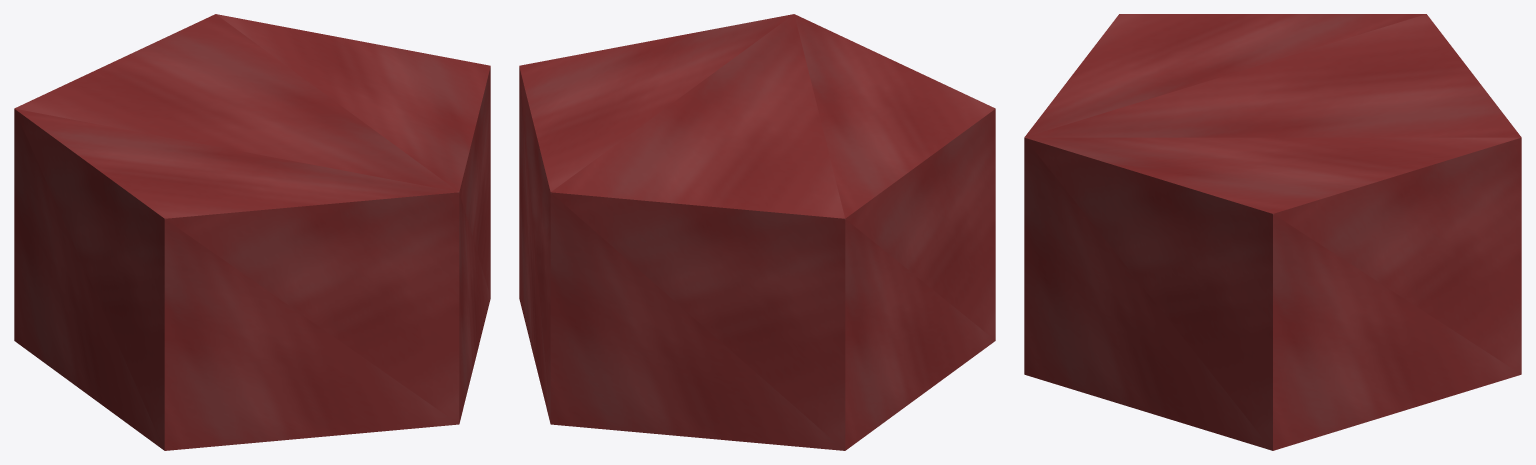
File: steelPenta.obj
3 views of the same model, side by side, from view 1: azimuth 30°, elevation 25°; view 2: azimuth 150°, elevation 25°; view 3: azimuth 270°, elevation 25° (orthographic). The views are drawn at different scales.
Visible parts, largest first — view 1: pCylinder6; view 2: pCylinder6; view 3: pCylinder6.
Part boxes in pixels (x1=…): pCylinder6: x1=14, y1=14, x2=490, y2=450; pCylinder6: x1=519, y1=14, x2=995, y2=450; pCylinder6: x1=1024, y1=14, x2=1521, y2=450.
Bounding box in the file's own units: 1.81 × 1 × 1.9.
1 material, 1 textured.
